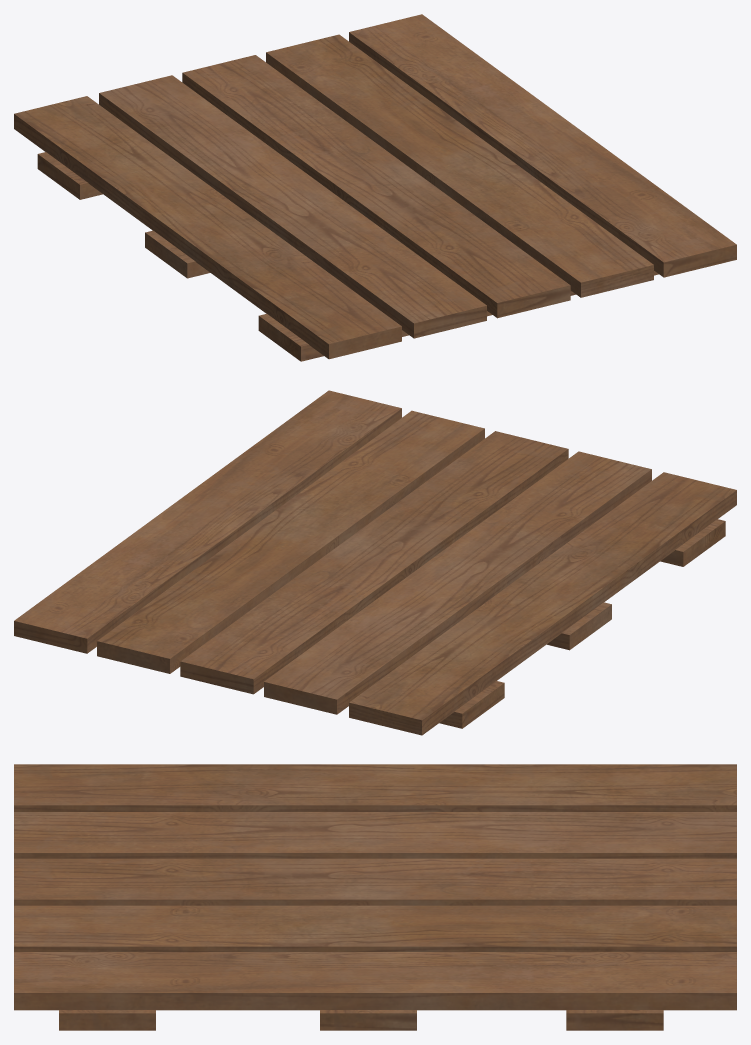
The model's file is wood_platform.glb.
The picture shows the model from 3 angles, top to bottom: view 1: azimuth 30°, elevation 25°; view 2: azimuth 150°, elevation 25°; view 3: azimuth 270°, elevation 25°; orthographic projection. The views are drawn at different scales.
Visible parts, largest first — view 1: Cube; view 2: Cube; view 3: Cube.
Part boxes in pixels (bbox=[...]): Cube: bbox=[14, 14, 736, 361]; Cube: bbox=[14, 390, 736, 735]; Cube: bbox=[14, 764, 736, 1030].
Size of the model in its own units: 2.26 by 0.1527 by 2.92.
Materials: 1 (1 with a texture image).
